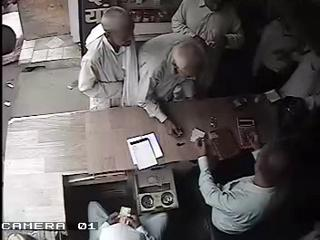Normal: (196, 132, 291, 240), (137, 32, 210, 125), (170, 0, 247, 66)
shoplifting: (78, 6, 140, 111)
